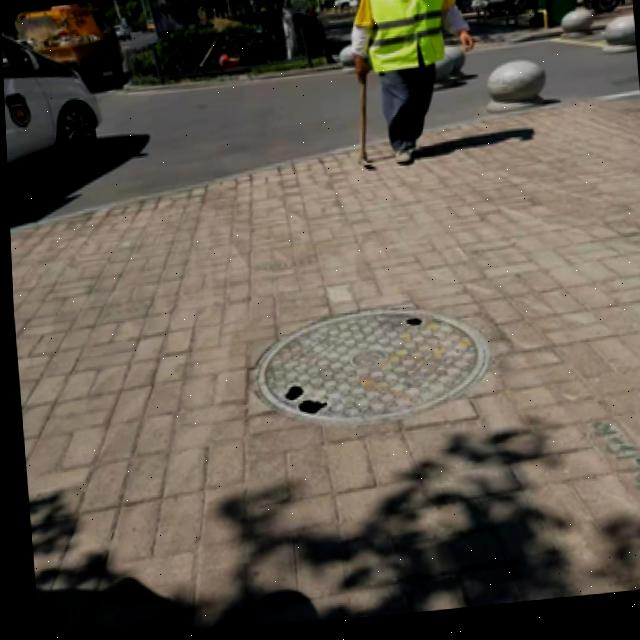manhole: (231, 281, 494, 446)
